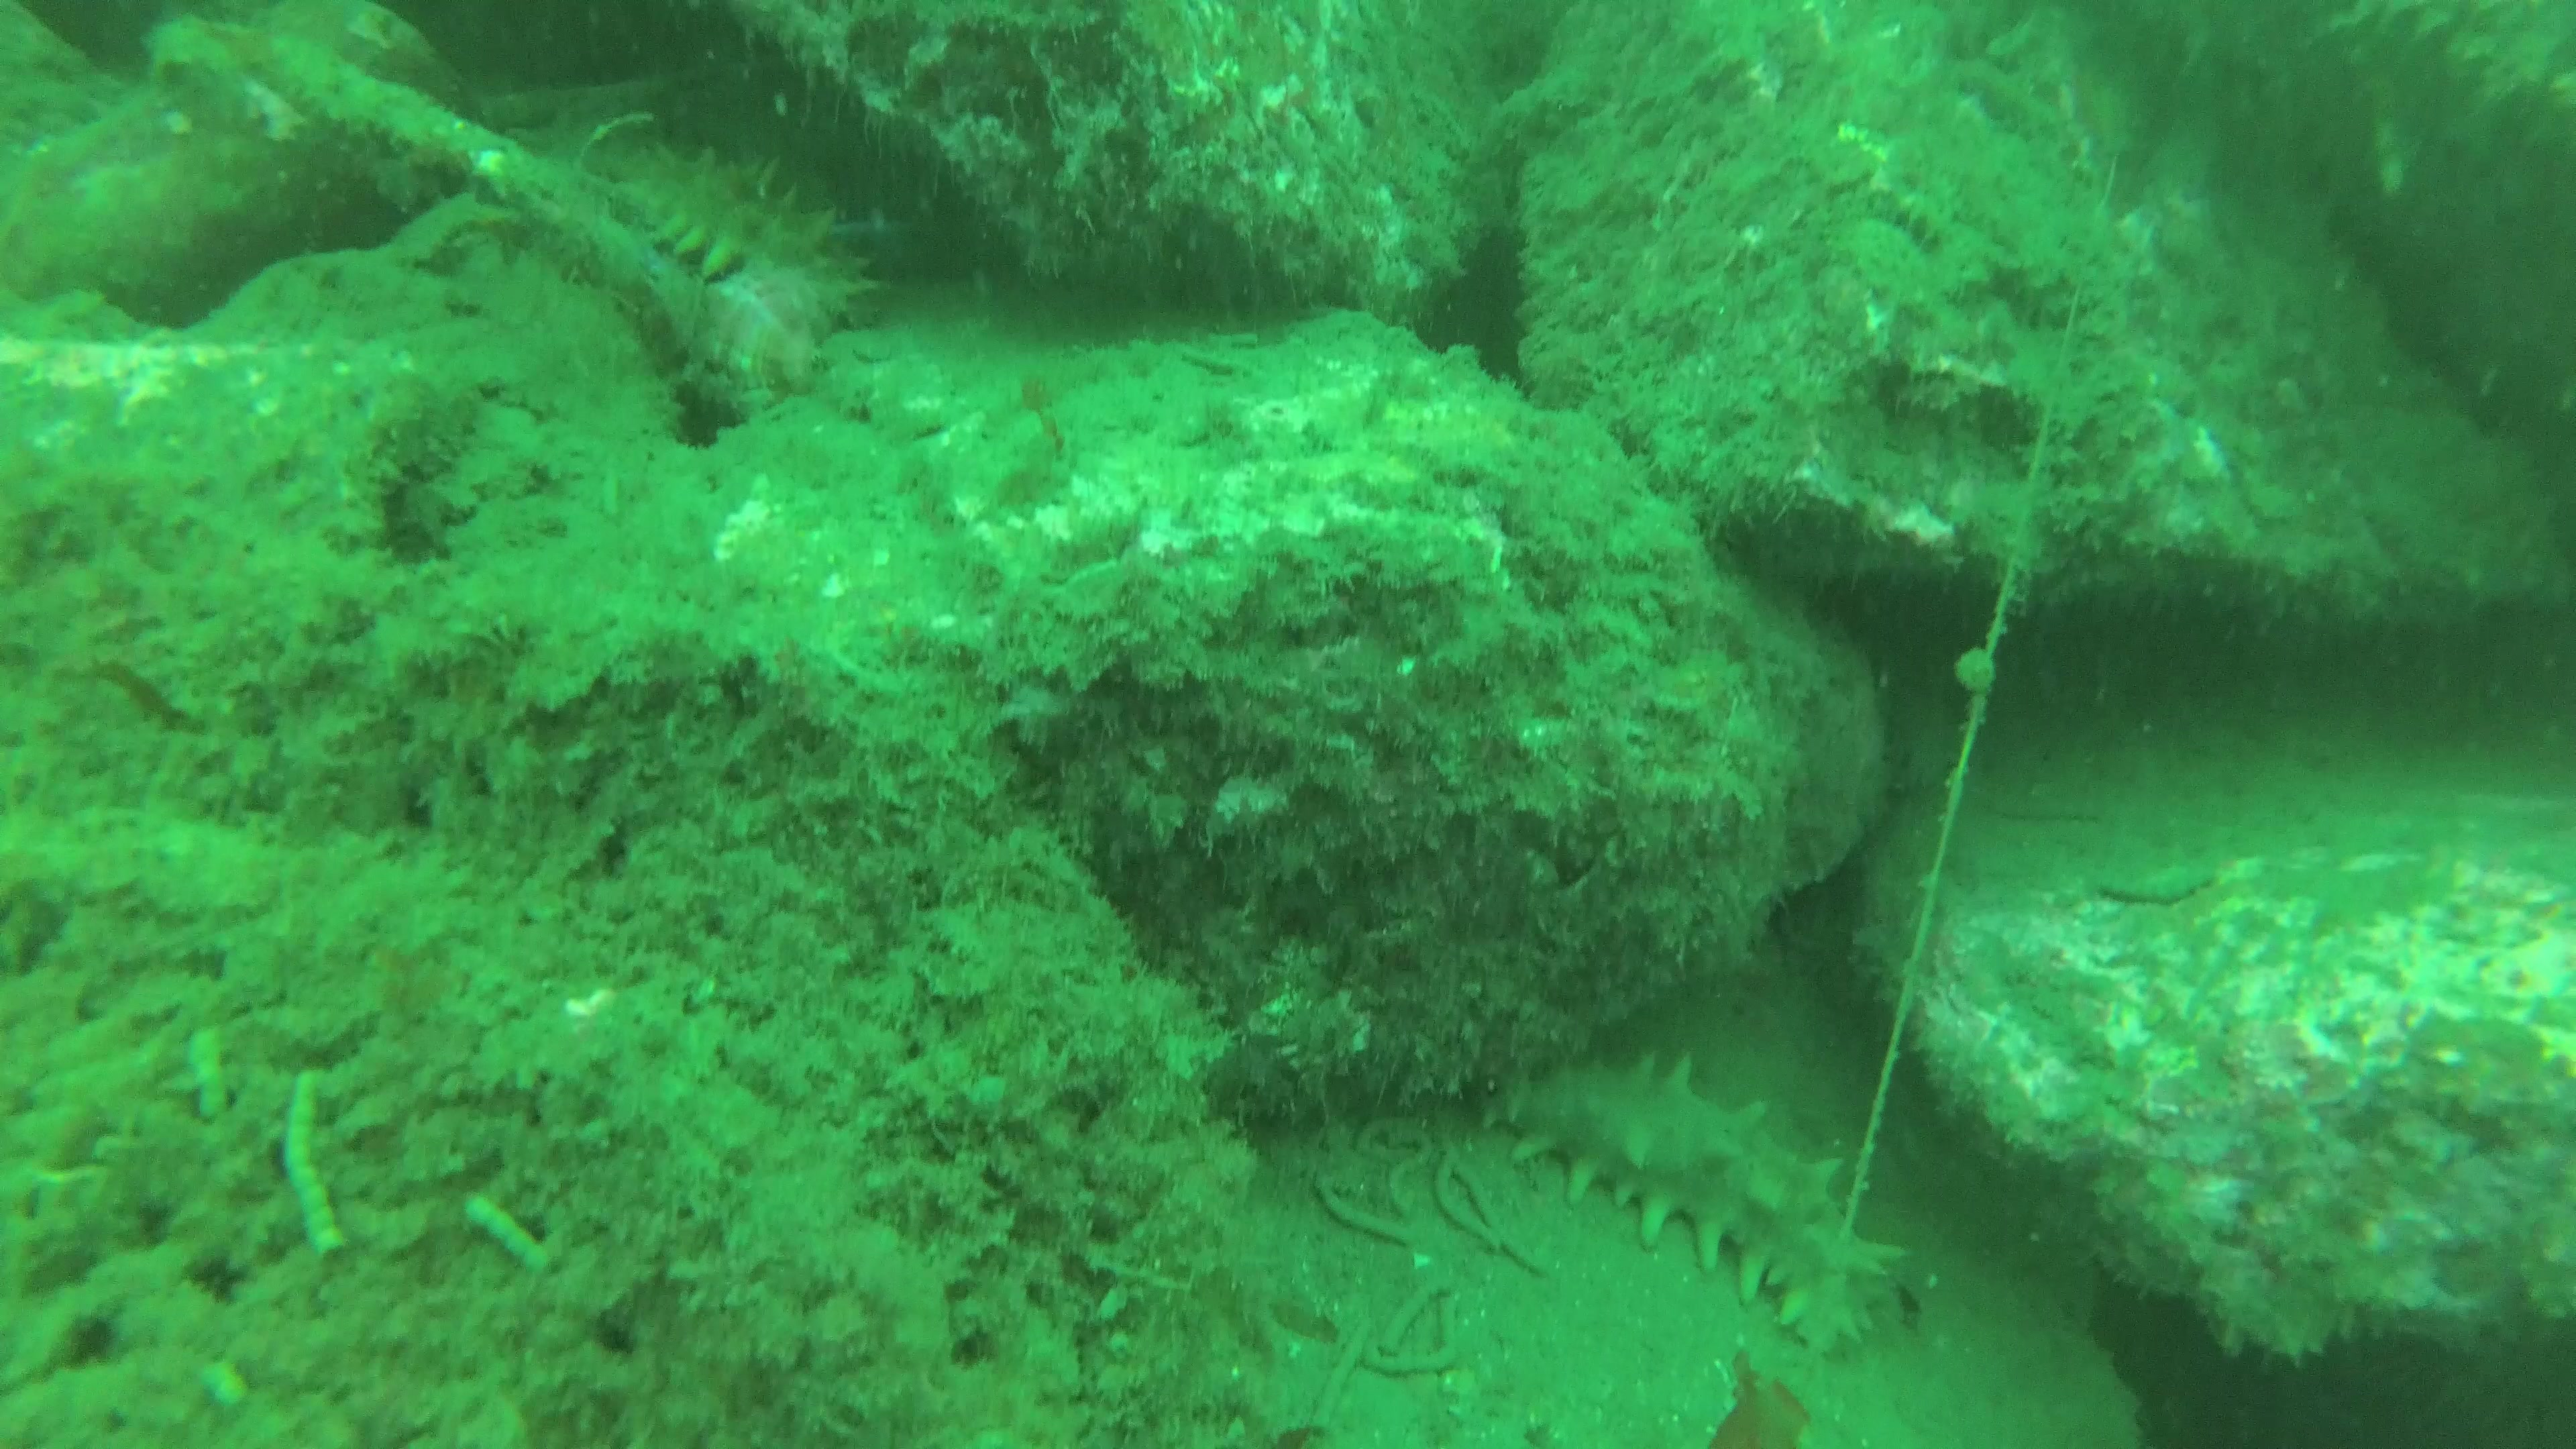holothurian: (1481, 1047, 1916, 1357), (607, 143, 888, 333)
